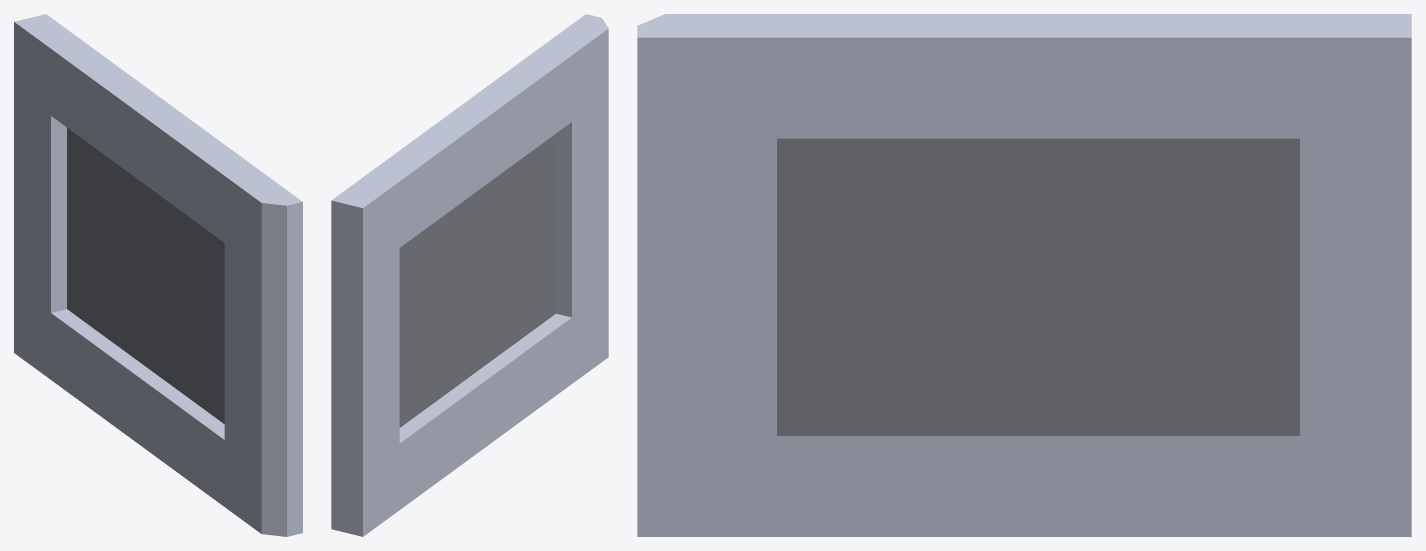
3 views of the same model, side by side, from view 1: azimuth 30°, elevation 25°; view 2: azimuth 150°, elevation 25°; view 3: azimuth 270°, elevation 25° (orthographic). The views are drawn at different scales.
Visible parts, largest first — view 1: object_048; view 2: object_048; view 3: object_048.
Part boxes in pixels (x1=…): object_048: x1=14, y1=14, x2=302, y2=536; object_048: x1=331, y1=14, x2=608, y2=536; object_048: x1=637, y1=14, x2=1411, y2=536.
Size of the model in its own units: 0.625 by 6.18 by 8.68.
